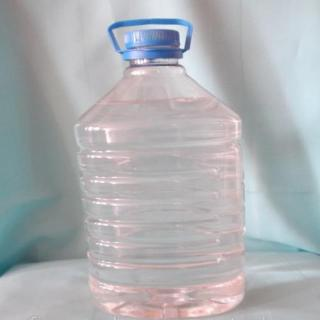Plastic-bottle: (61, 8, 268, 320)
